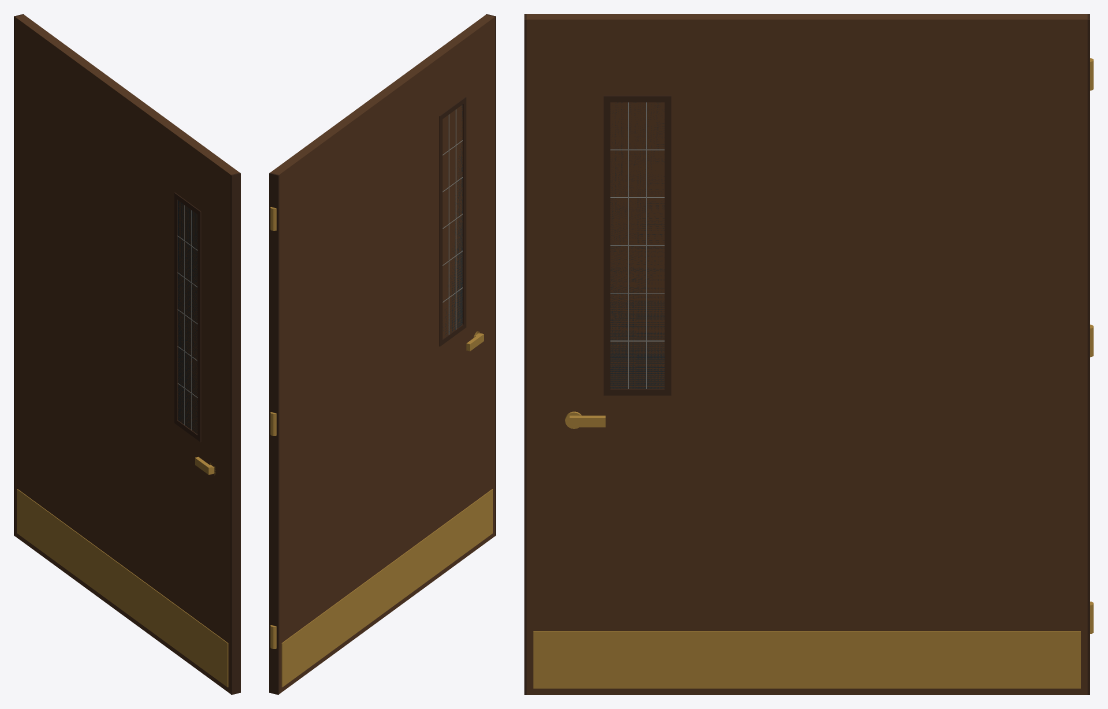
File: SM_80s_RoomDoor_250.glb
3 renders of one model, left to right at view 1: azimuth 30°, elevation 25°; view 2: azimuth 150°, elevation 25°; view 3: azimuth 270°, elevation 25°, orthographic. The views are drawn at different scales.
Parts seen in each view (by area): view 1: SM_80s_RoomDoor_250; view 2: SM_80s_RoomDoor_250; view 3: SM_80s_RoomDoor_250.
Part boxes in pixels (left/top/right/bottom): SM_80s_RoomDoor_250: left=14, top=14, right=240, bottom=694; SM_80s_RoomDoor_250: left=269, top=14, right=495, bottom=694; SM_80s_RoomDoor_250: left=524, top=14, right=1093, bottom=694.
Bounding box in the file's own units: 0.134 × 3.29 × 2.52.
